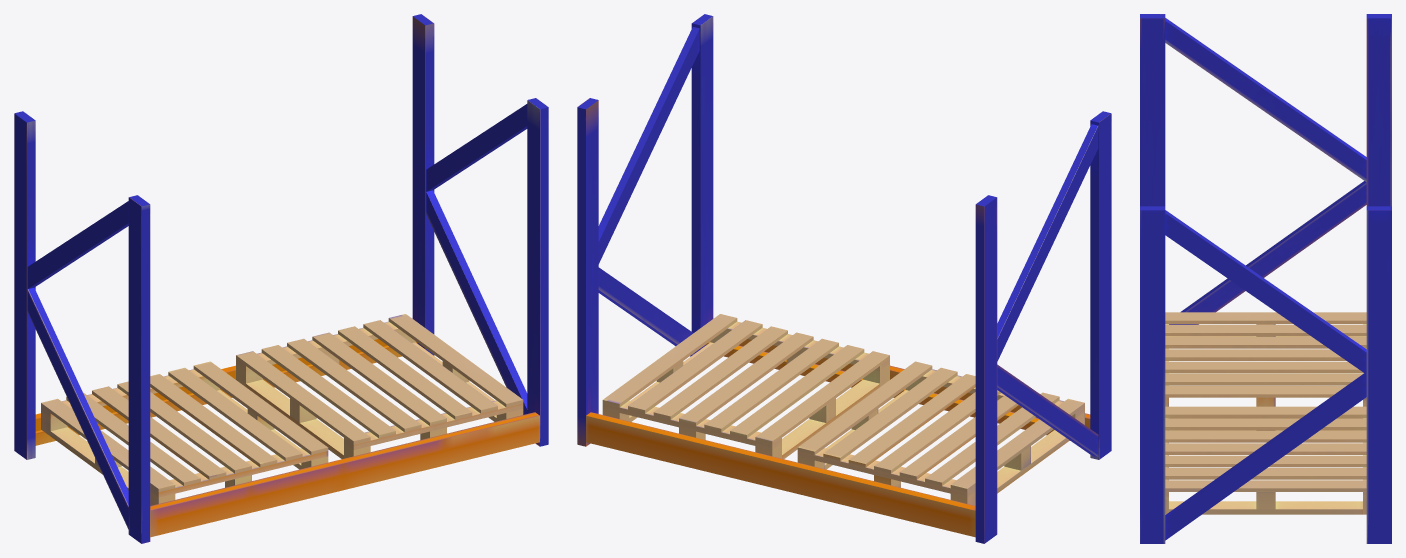
Rendered from Longarina_junto_2pallets_256px.gltf.
3 renders of one model, left to right at view 1: azimuth 30°, elevation 25°; view 2: azimuth 150°, elevation 25°; view 3: azimuth 270°, elevation 25°, orthographic.
Parts seen in each view (by area): view 1: Barras_Laterais; view 2: Barras_Laterais; view 3: Barras_Laterais.
Part boxes in pixels (x1,y1,x2,y2): Barras_Laterais: (14, 14, 548, 543); Barras_Laterais: (577, 14, 1111, 543); Barras_Laterais: (1140, 14, 1391, 543).
Size of the model in its own units: 2.4 by 1.9 by 1.3.
1 material, 1 textured.
